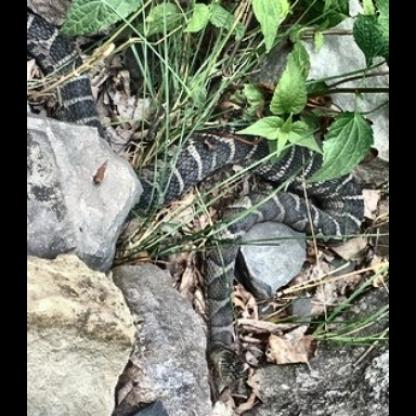Snake: (71, 20, 342, 344)
